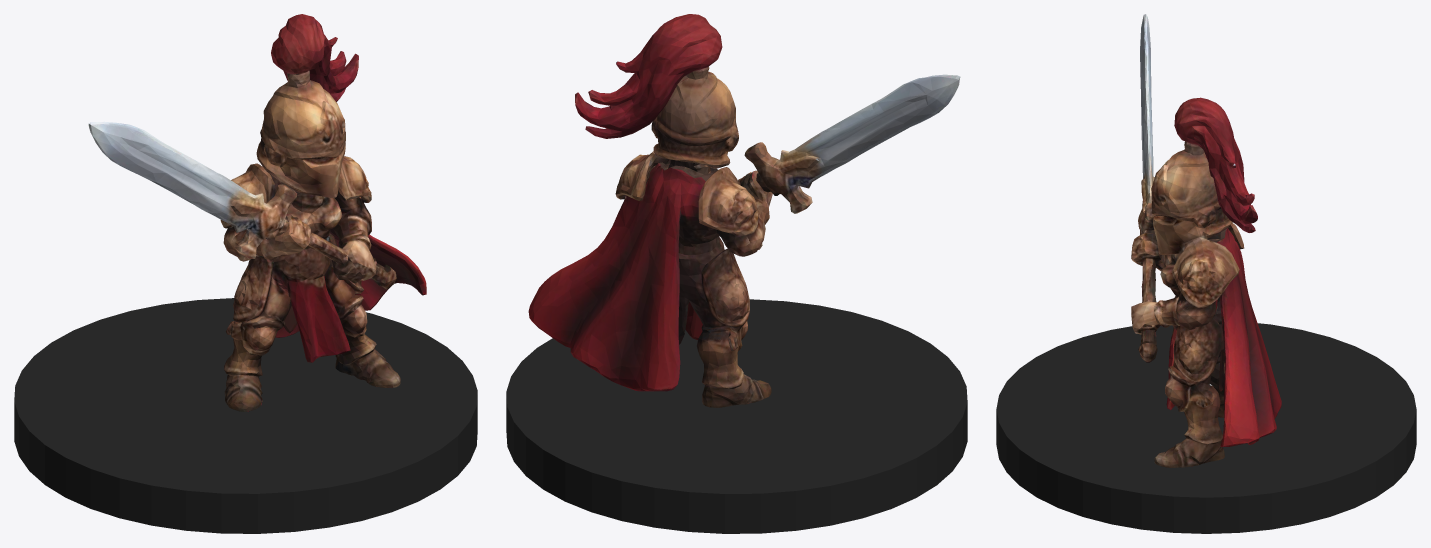
The model's file is vigilator.glb.
The picture shows the model from 3 angles, left to right: view 1: azimuth 30°, elevation 25°; view 2: azimuth 150°, elevation 25°; view 3: azimuth 270°, elevation 25°; orthographic projection. The views are drawn at different scales.
Visible parts, largest first — view 1: base, figure; view 2: base, figure; view 3: base, figure.
Part boxes in pixels (<box>): base: <box>14,298,477,533</box>; figure: <box>88,14,426,411</box>; base: <box>506,299,967,533</box>; figure: <box>528,14,960,407</box>; base: <box>996,323,1416,533</box>; figure: <box>1131,14,1281,467</box>.
Size of the model in its own units: 1.26 by 1.22 by 1.26.
Materials: 2 (1 with a texture image).
